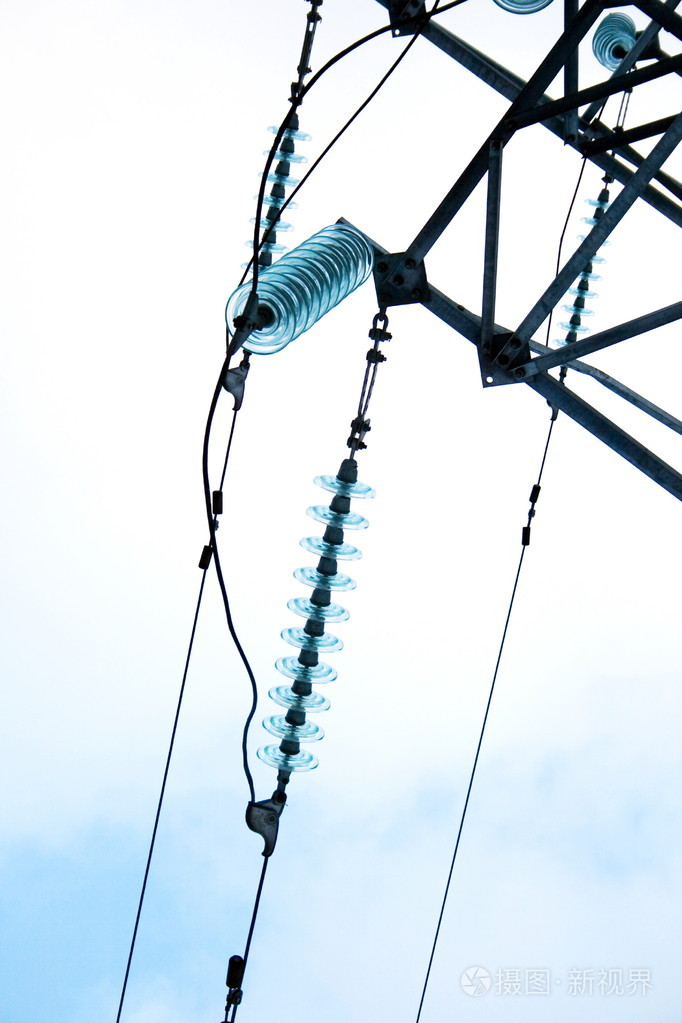insulator: (258, 470, 375, 769), (222, 221, 371, 350), (244, 122, 308, 268), (559, 196, 615, 343), (593, 9, 636, 68)
